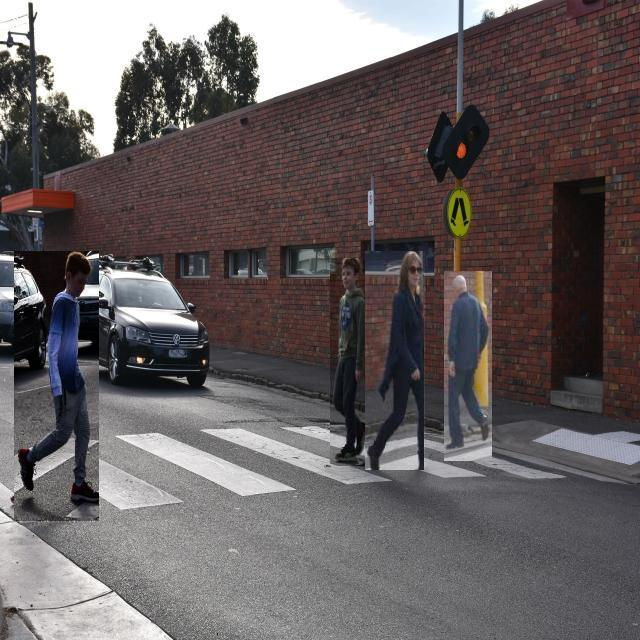without scooter: (14, 252, 99, 522), (366, 252, 426, 470), (444, 271, 492, 461), (330, 258, 371, 466)
